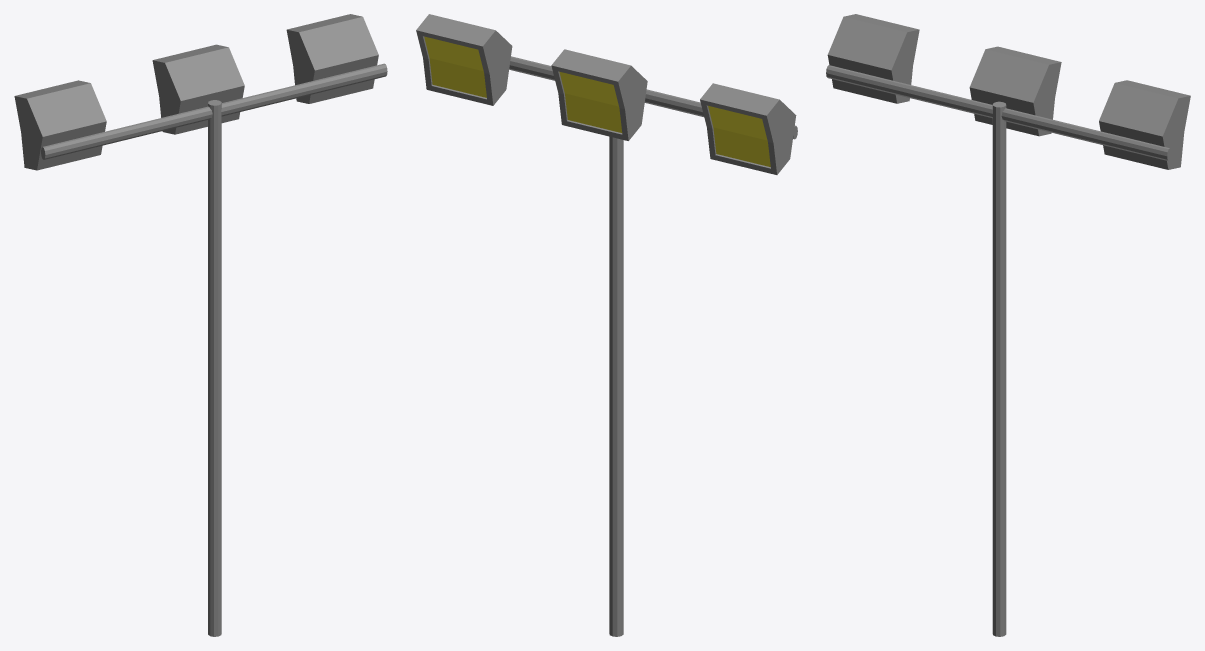
File: LightPole01.fbx
3 views of the same model, side by side, from view 1: azimuth 30°, elevation 25°; view 2: azimuth 150°, elevation 25°; view 3: azimuth 330°, elevation 25° (orthographic). The views are drawn at different scales.
Parts seen in each view (by area): view 1: LightPole01; view 2: LightPole01; view 3: LightPole01.
Part boxes in pixels (left/top/right/bottom): LightPole01: left=14, top=14, right=387, bottom=636; LightPole01: left=416, top=14, right=797, bottom=636; LightPole01: left=826, top=14, right=1190, bottom=636.
Bounding box in the file's own units: 2267 × 3577 × 388.
